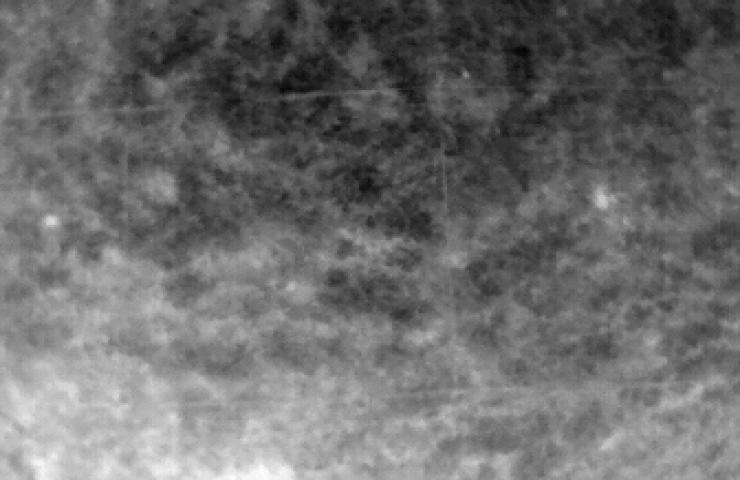landmines: (590, 186, 619, 211), (43, 212, 63, 230)
